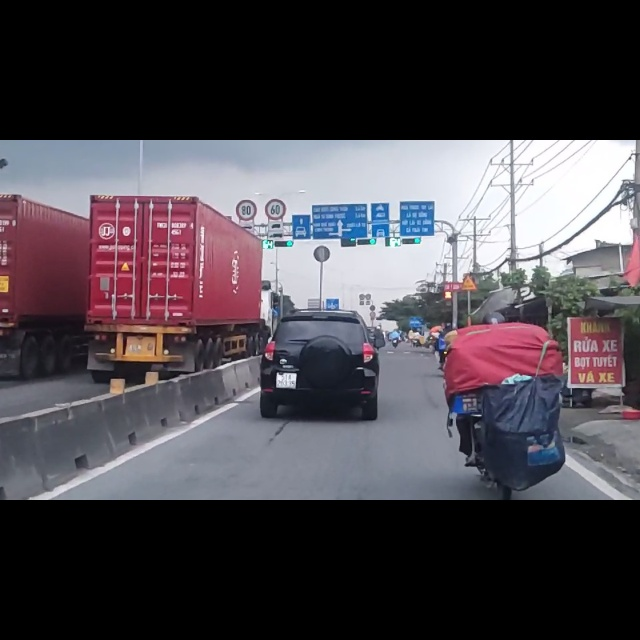bien_chi_dan: (235, 104, 258, 147), (265, 103, 287, 143), (461, 238, 477, 268), (271, 299, 279, 312)
